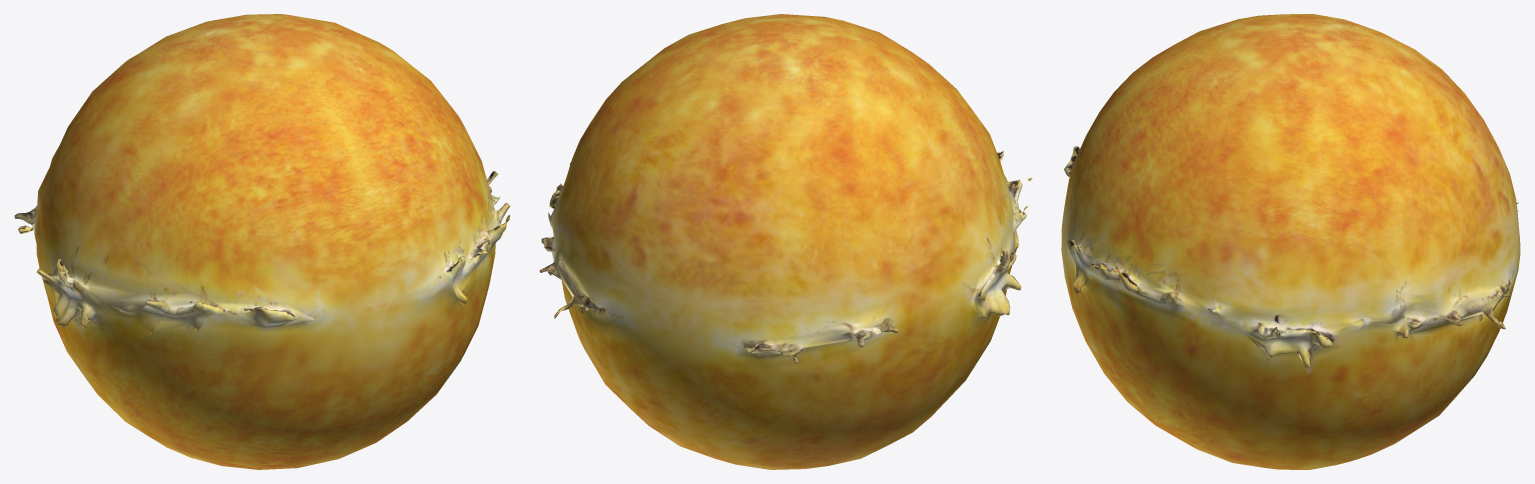
Rendered from sun-realistic.glb.
3 views of the same model, side by side, from view 1: azimuth 30°, elevation 25°; view 2: azimuth 150°, elevation 25°; view 3: azimuth 270°, elevation 25° (orthographic).
Visible parts, largest first — view 1: Mesh0; view 2: Mesh0; view 3: Mesh0.
Part boxes in pixels (bbox=[...]): Mesh0: bbox=[14, 14, 510, 469]; Mesh0: bbox=[539, 14, 1032, 469]; Mesh0: bbox=[1061, 14, 1520, 469].
Bounding box in the file's own units: 1.8 × 1.61 × 1.62.
1 material, 1 textured.
